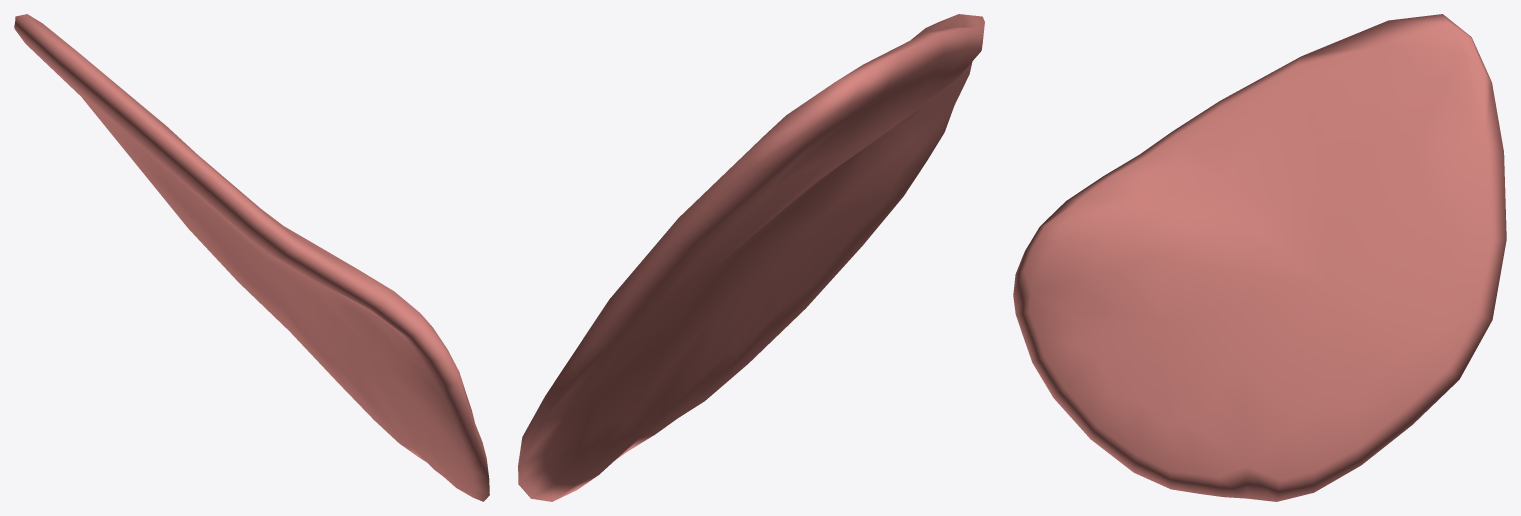
3 renders of one model, left to right at view 1: azimuth 30°, elevation 25°; view 2: azimuth 150°, elevation 25°; view 3: azimuth 270°, elevation 25°, orthographic. The views are drawn at different scales.
Visible parts, largest first — view 1: ZA_08789dfb8bf82a6b; view 2: ZA_08789dfb8bf82a6b; view 3: ZA_08789dfb8bf82a6b.
Part boxes in pixels (left/top/right/bottom): ZA_08789dfb8bf82a6b: left=14, top=14, right=489, bottom=501; ZA_08789dfb8bf82a6b: left=518, top=14, right=984, bottom=501; ZA_08789dfb8bf82a6b: left=1013, top=14, right=1506, bottom=501.
Size of the model in its own units: 0.00582 by 0.00809 by 0.0099.
